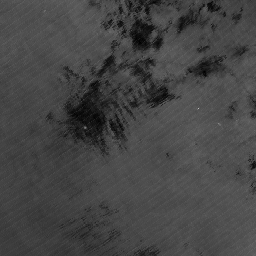Target: (82, 125, 87, 130)
